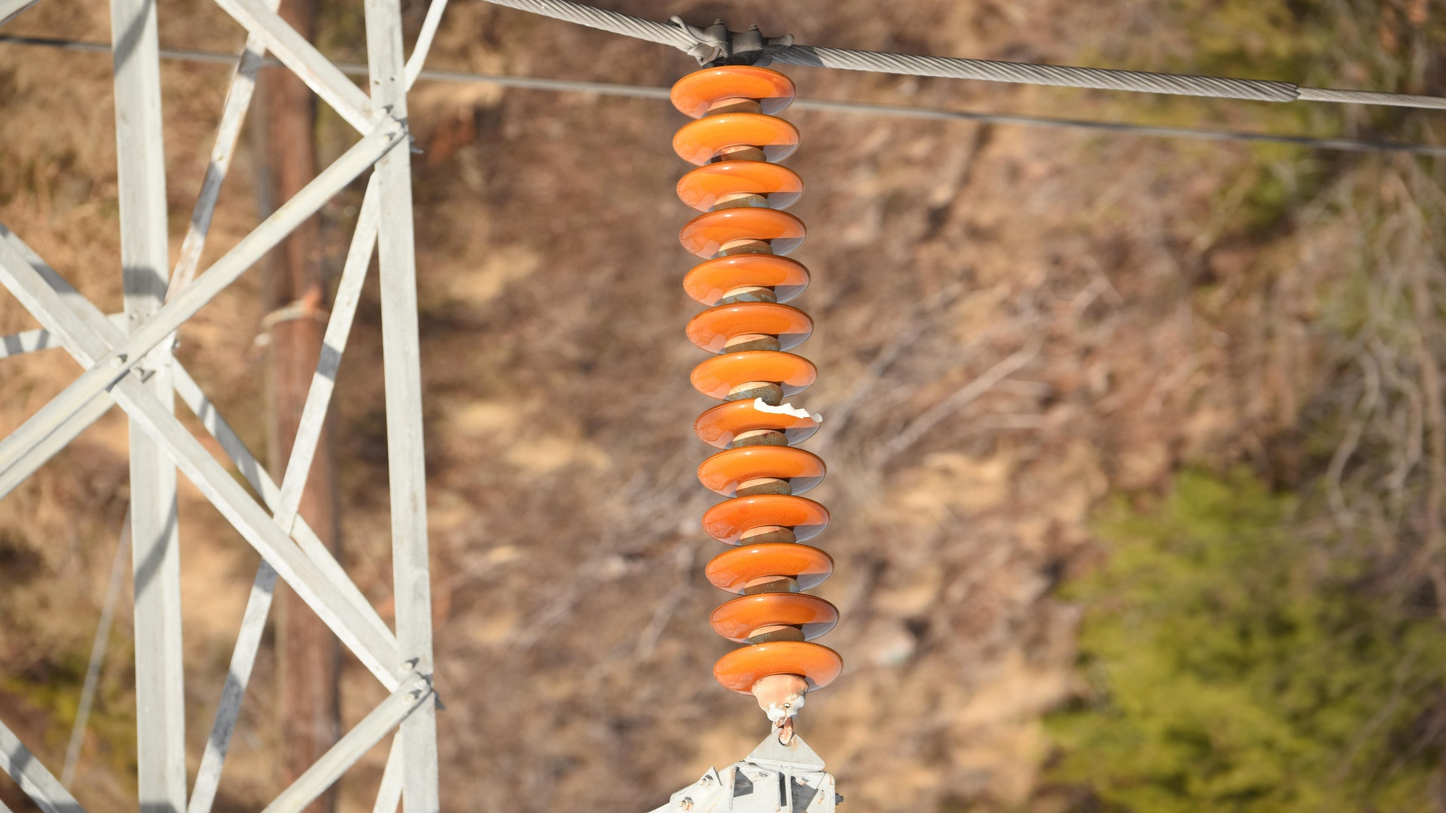insulator: (664, 60, 847, 701)
insulator_breakage: (749, 393, 826, 428)
